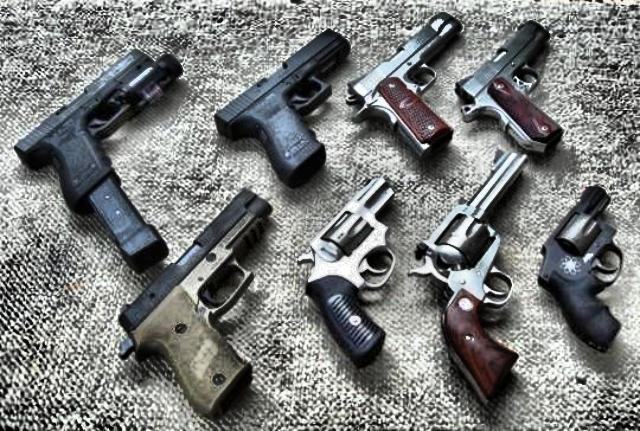pistol: (114, 178, 270, 418), (410, 147, 532, 406), (13, 46, 181, 216), (210, 29, 356, 181), (298, 178, 402, 374), (342, 13, 468, 150), (539, 179, 621, 354), (451, 20, 557, 148)
